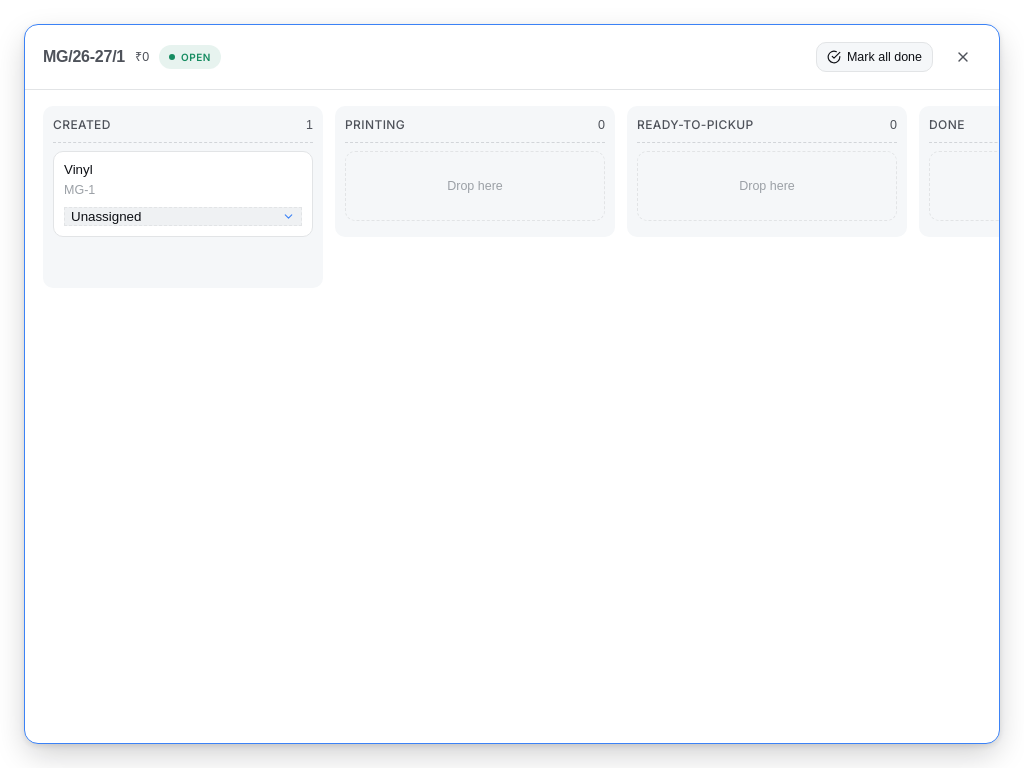
Scenario: rearranging and renaming columns › turns a column head into an input on double click
The width and height of the screenshot is (1024, 768).
Double-click the element showing "Printing 0": [475, 130] box [345,116,605,143]
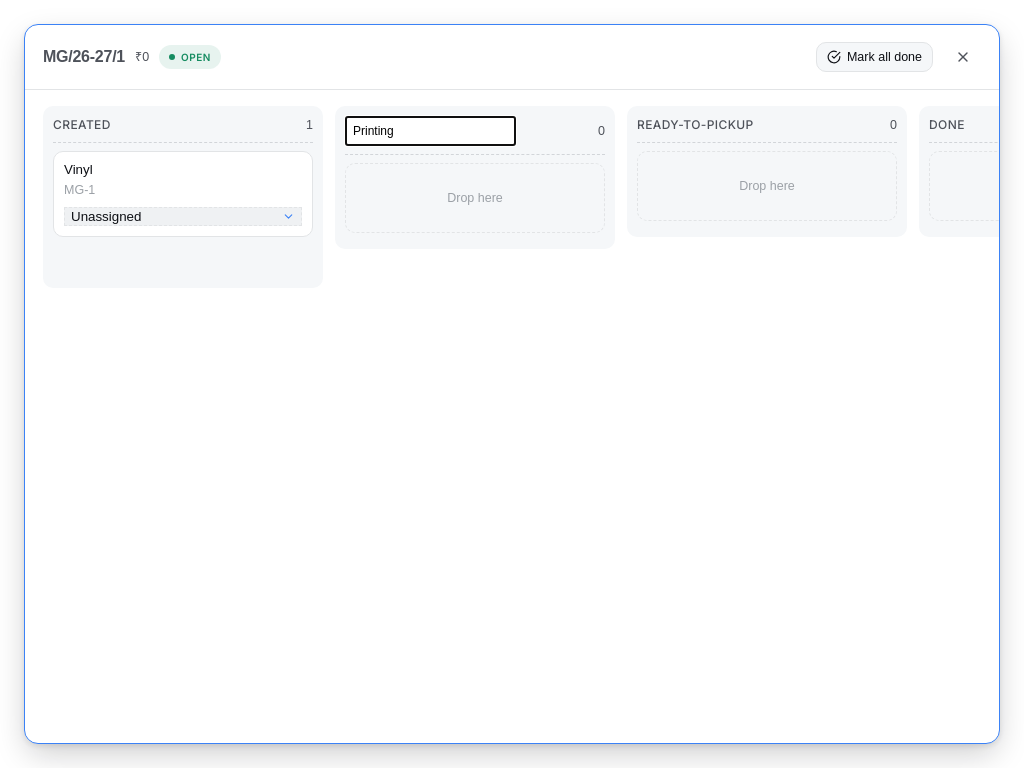
Result: the field named "Rename Printing" is shown at [345,116,516,146]
